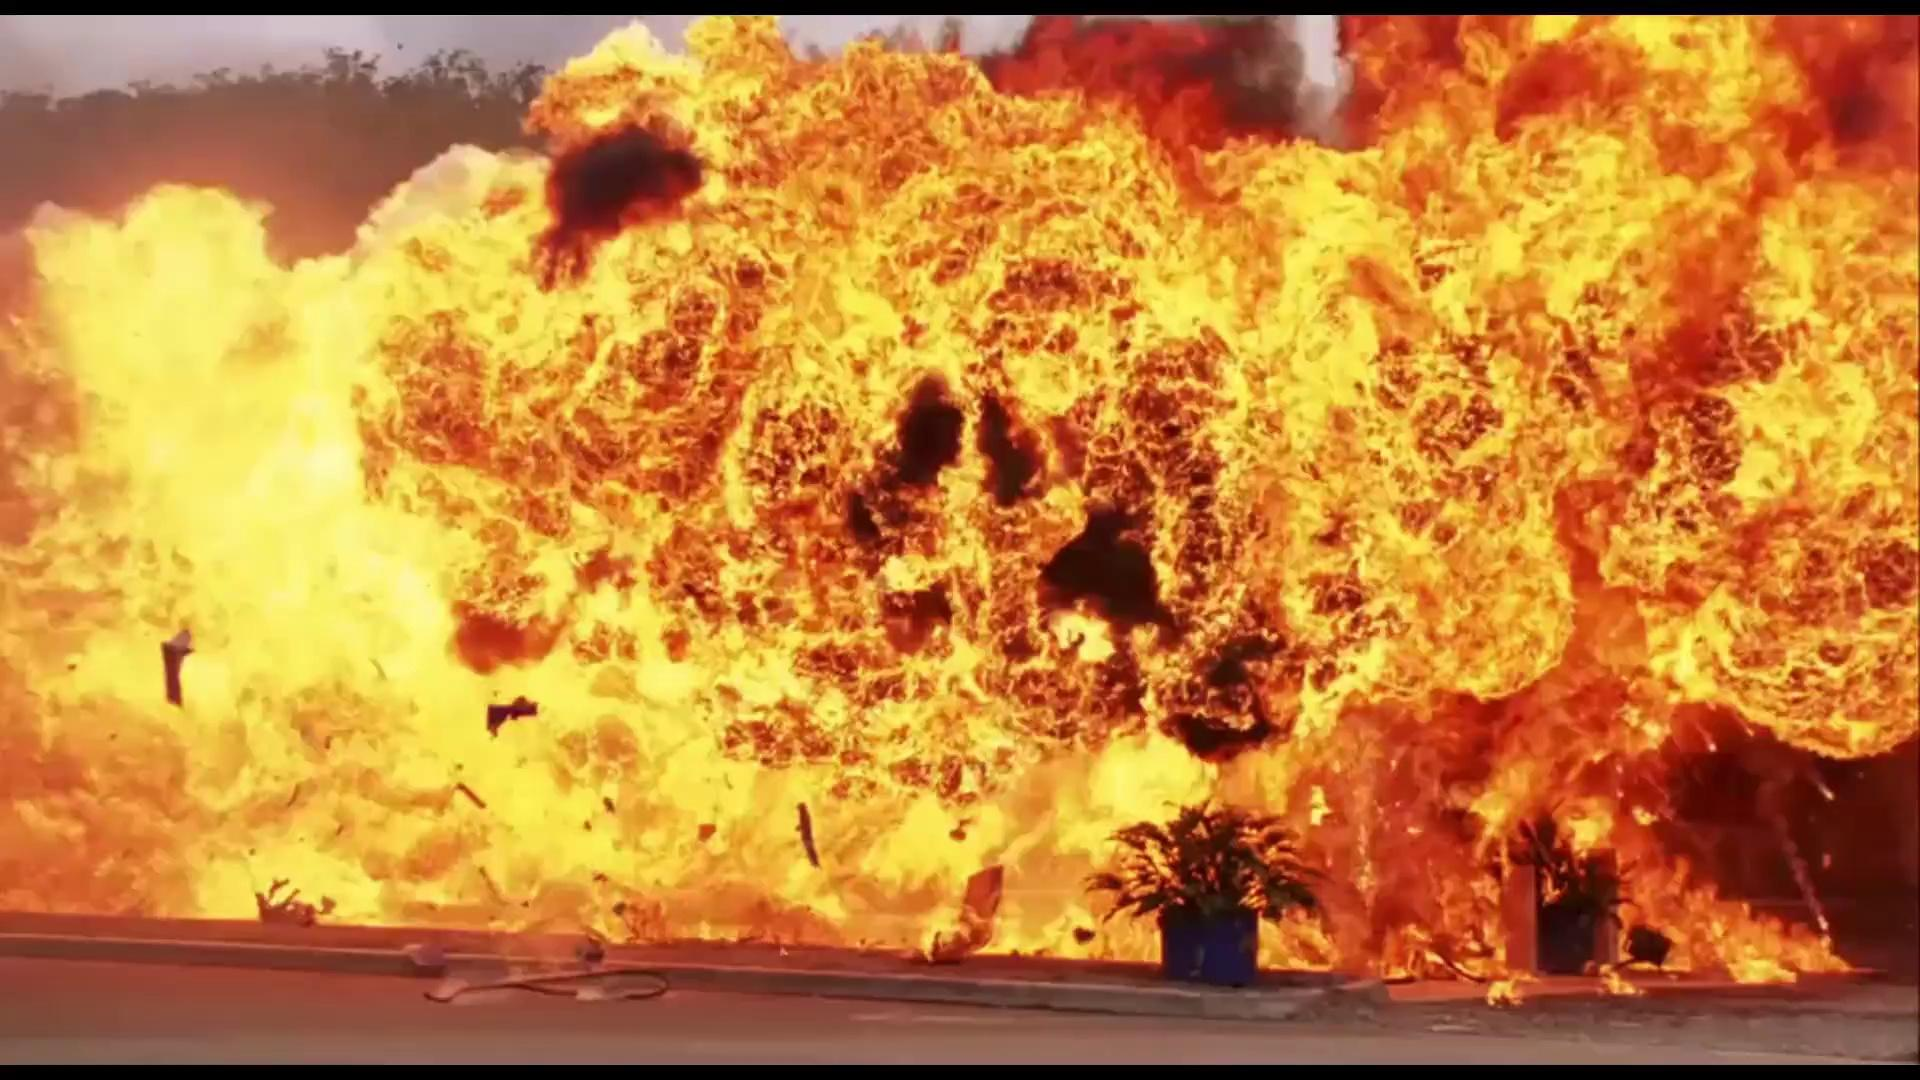fire: (4, 15, 1912, 988)
